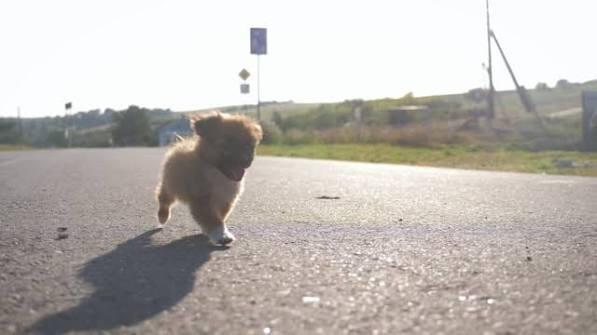puppy-dog: (152, 111, 264, 249)
